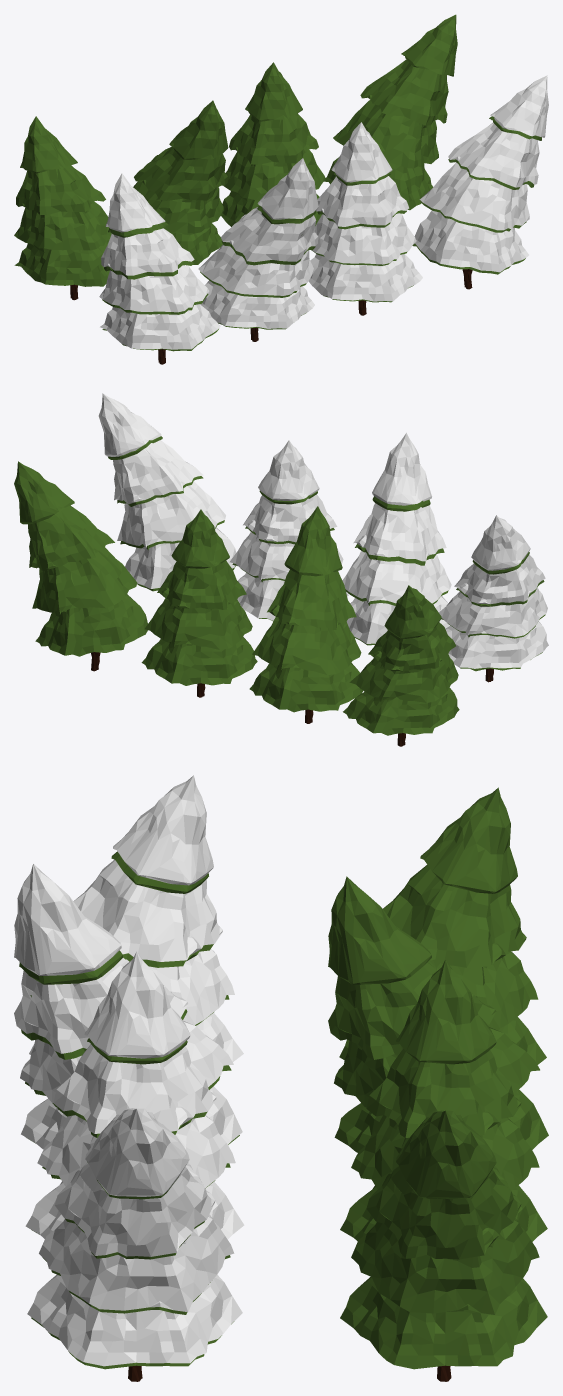
File: Arboles.fbx
3 views of the same model, one above another, from view 1: azimuth 30°, elevation 25°; view 2: azimuth 150°, elevation 25°; view 3: azimuth 270°, elevation 25° (orthographic). The views are drawn at different scales.
Visible parts, largest first — view 1: Arbol nevado 4, Arbol nevado 3, Arbol nevado 2, Arbol nevado 1, Arbol 4, Arbol 1, Arbol 3, Arbol 2; view 2: Arbol 1, Arbol 3, Arbol 2, Arbol nevado 2, Arbol nevado 4, Arbol nevado 1, Arbol 4, Arbol nevado 3; view 3: Arbol nevado 4, Arbol 1, Arbol nevado 3, Arbol nevado 1, Arbol 2, Arbol nevado 2, Arbol 4, Arbol 3.
Boxes of the visible parts, left/top/right/bottom form: Arbol nevado 4: left=412, top=75, right=548, bottom=289; Arbol nevado 3: left=308, top=122, right=422, bottom=315; Arbol nevado 2: left=198, top=158, right=318, bottom=341; Arbol nevado 1: left=99, top=173, right=220, bottom=364; Arbol 4: left=14, top=116, right=111, bottom=300; Arbol 1: left=324, top=14, right=457, bottom=210; Arbol 3: left=133, top=100, right=228, bottom=264; Arbol 2: left=220, top=62, right=325, bottom=226; Arbol 1: left=14, top=461, right=147, bottom=671; Arbol 3: left=249, top=506, right=363, bottom=723; Arbol 2: left=141, top=509, right=257, bottom=697; Arbol nevado 2: left=342, top=433, right=451, bottom=645; Arbol nevado 4: left=98, top=393, right=236, bottom=591; Arbol nevado 1: left=439, top=515, right=548, bottom=682; Arbol 4: left=343, top=585, right=459, bottom=746; Arbol nevado 3: left=229, top=440, right=348, bottom=620; Arbol nevado 4: left=27, top=1108, right=242, bottom=1381; Arbol 1: left=340, top=1110, right=547, bottom=1381; Arbol nevado 3: left=25, top=951, right=244, bottom=1239; Arbol nevado 1: left=29, top=775, right=243, bottom=1061; Arbol 2: left=340, top=960, right=547, bottom=1241; Arbol nevado 2: left=14, top=864, right=242, bottom=1149; Arbol 4: left=339, top=787, right=546, bottom=1071; Arbol 3: left=328, top=876, right=548, bottom=1152.
Size of the model in its own units: 821 by 359 by 498.
